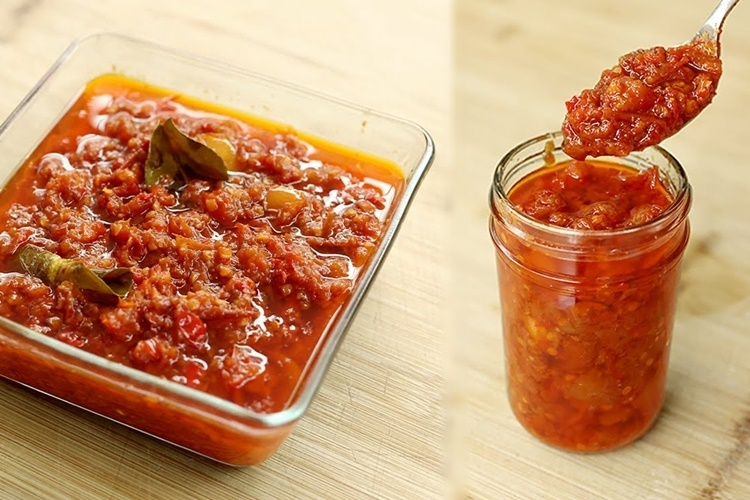sambal: (1, 86, 342, 372), (559, 43, 724, 159)
